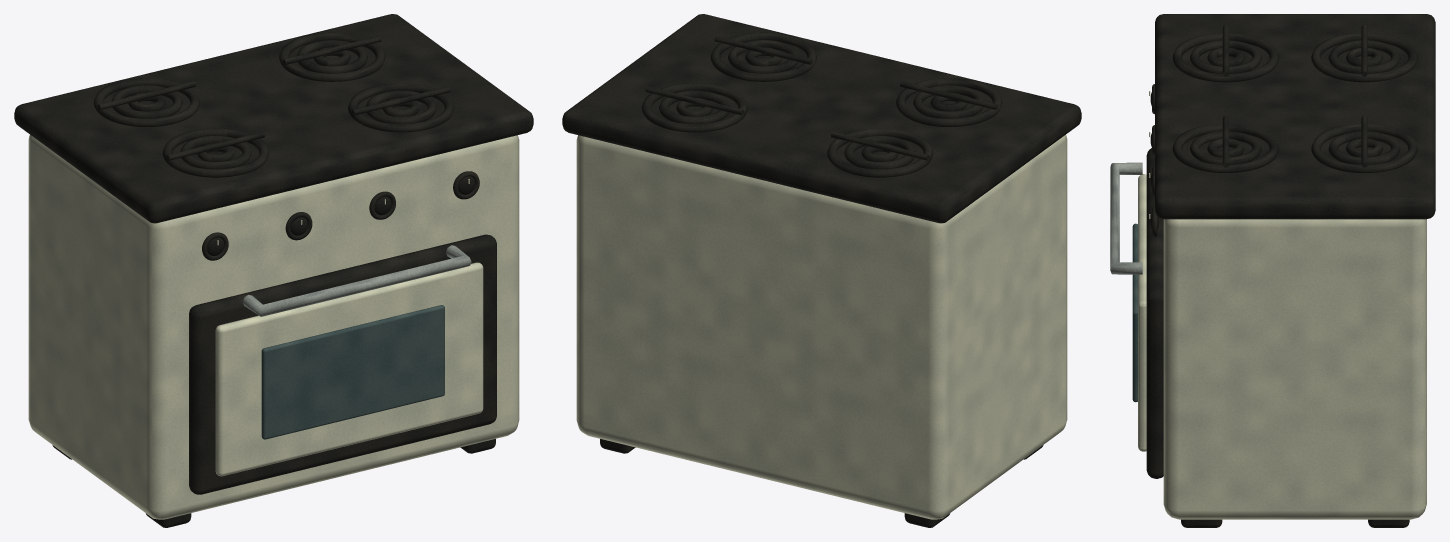
Rendered from Stove.fbx.
3 views of the same model, side by side, from view 1: azimuth 30°, elevation 25°; view 2: azimuth 150°, elevation 25°; view 3: azimuth 270°, elevation 25° (orthographic).
Parts seen in each view (by area): view 1: Stove_Enamel, Stove_Iron, Stove_GlassPatina, Stove_Chrome; view 2: Stove_Enamel, Stove_Iron; view 3: Stove_Enamel, Stove_Iron, Stove_Chrome, Stove_GlassPatina.
Boxes of the visible parts, <box> form: Stove_Enamel: <box>28,135,519,519</box>; Stove_Iron: <box>14,14,533,527</box>; Stove_GlassPatina: <box>261,305,444,439</box>; Stove_Chrome: <box>242,245,471,316</box>; Stove_Enamel: <box>576,135,1067,519</box>; Stove_Iron: <box>562,14,1081,527</box>; Stove_Enamel: <box>1138,174,1426,519</box>; Stove_Iron: <box>1146,14,1435,527</box>; Stove_Chrome: <box>1110,162,1142,274</box>; Stove_GlassPatina: <box>1132,223,1137,402</box>.
Size of the model in its own units: 129 by 113 by 93.84.
